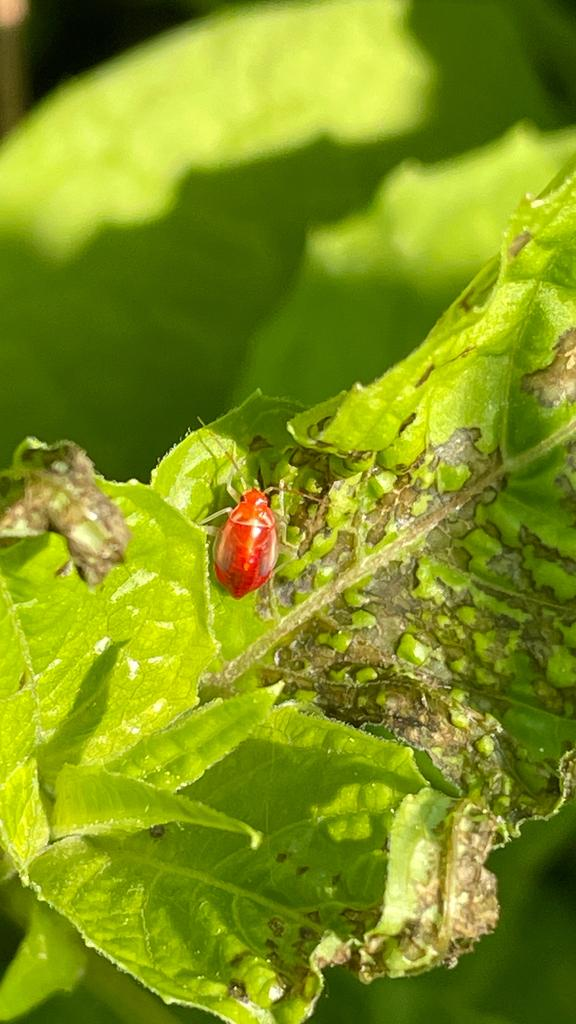plant_bugs: (153, 383, 380, 653)
